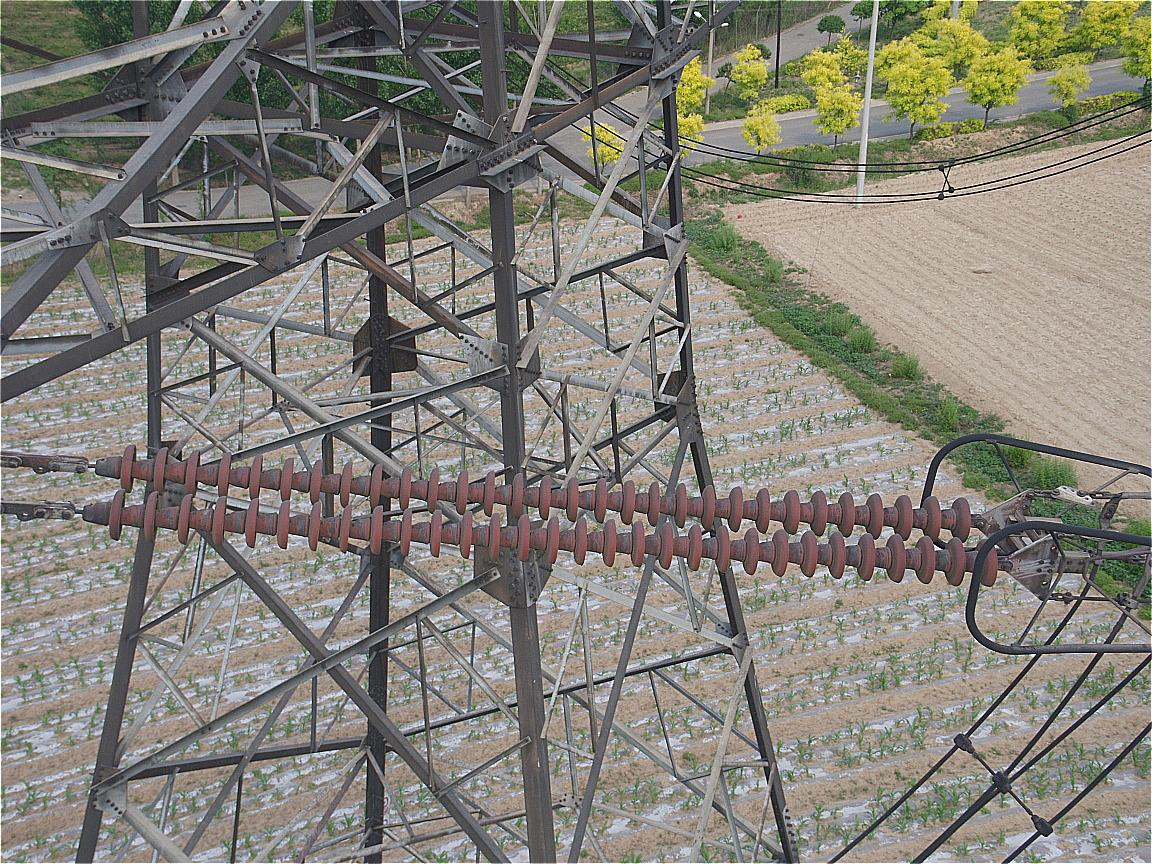insultor1: (108, 444, 998, 584)
